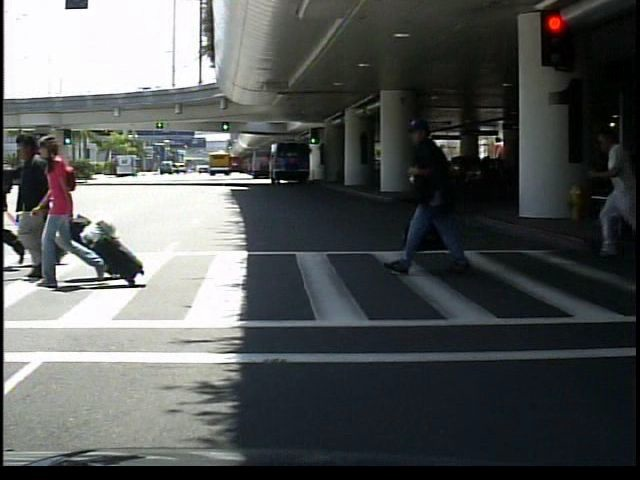person: (389, 112, 483, 276)
